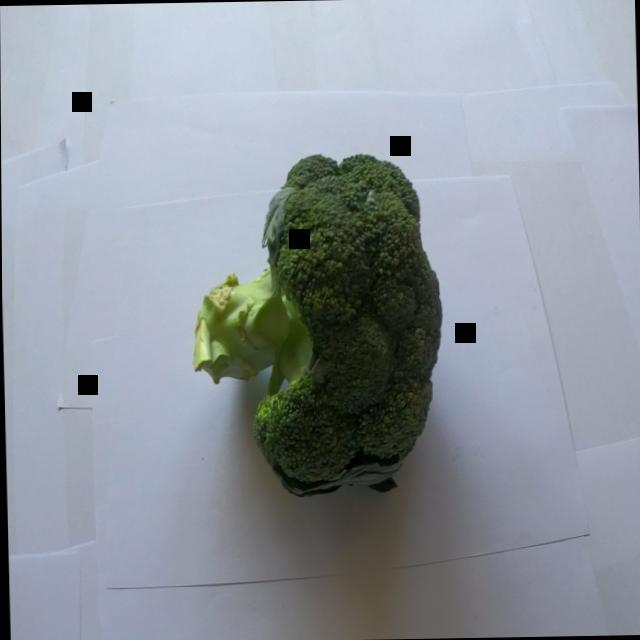Broccoli: (177, 140, 448, 507)
